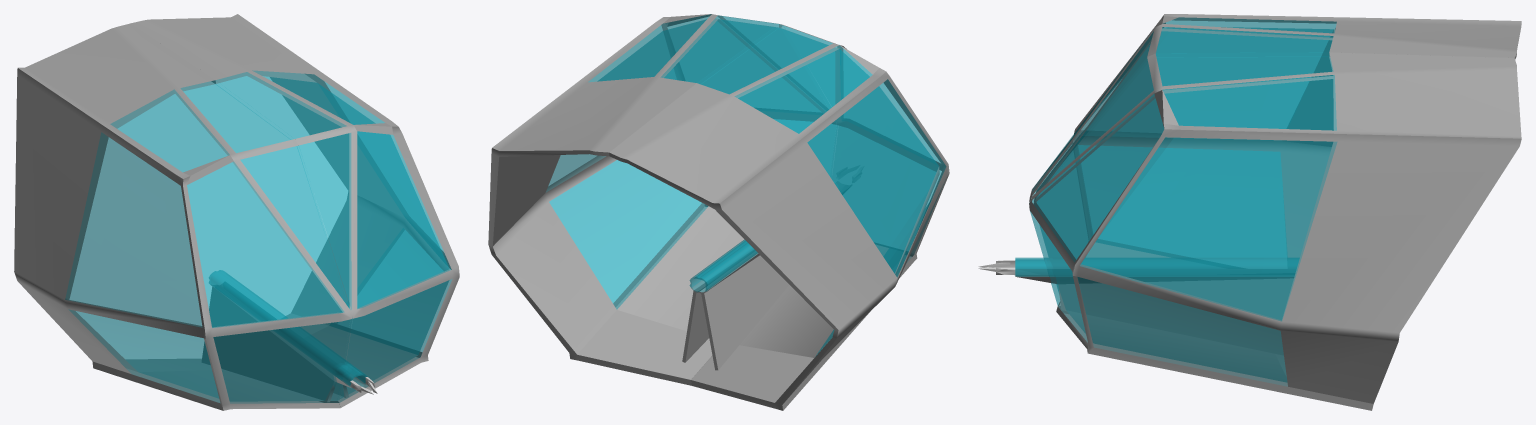
Rendered from cockpit.fbx.
The picture shows the model from 3 angles, left to right: view 1: azimuth 30°, elevation 25°; view 2: azimuth 150°, elevation 25°; view 3: azimuth 270°, elevation 25°; orthographic projection. The views are drawn at different scales.
Parts seen in each view (by area): view 1: pCube2, pCube1, pPipe2, pPipe1; view 2: pCube2, pCube1, pPipe2, pPipe1; view 3: pCube1, pCube2, pPipe1, pPipe2.
Boxes of the visible parts, <box> form: pCube2: <box>14,23,352,410</box>; pCube1: <box>131,14,459,407</box>; pPipe2: <box>202,271,373,402</box>; pPipe1: <box>218,270,377,397</box>; pCube2: <box>609,24,949,410</box>; pCube1: <box>488,14,836,385</box>; pPipe2: <box>699,243,789,370</box>; pPipe1: <box>682,239,755,362</box>; pCube1: <box>1029,52,1521,410</box>; pCube2: <box>1029,14,1521,314</box>; pPipe1: <box>978,260,1298,355</box>; pPipe2: <box>978,257,1299,274</box>.
Size of the model in its own units: 23.26 by 18.64 by 29.06.
